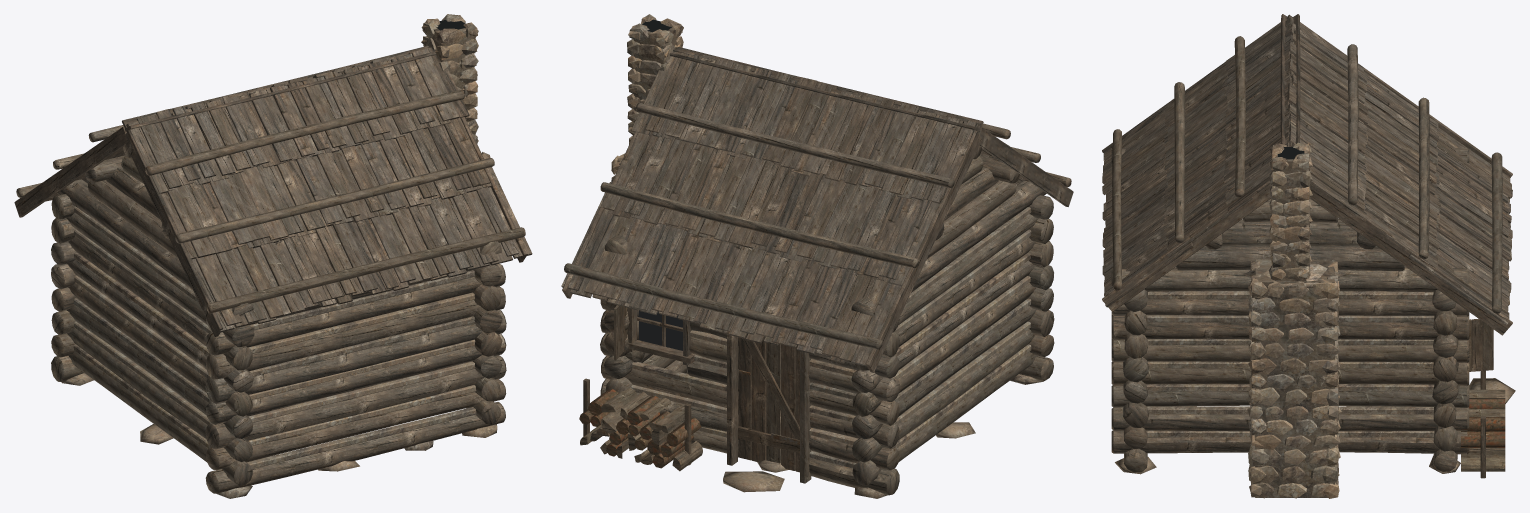
The model's file is b_hut.glb.
3 views of the same model, side by side, from view 1: azimuth 30°, elevation 25°; view 2: azimuth 150°, elevation 25°; view 3: azimuth 270°, elevation 25° (orthographic).
Visible parts, largest first — view 1: b_hut; view 2: b_hut; view 3: b_hut.
Boxes of the visible parts, x1,y1,x2,y2 form: b_hut: (14,14,532,498); b_hut: (561,14,1073,498); b_hut: (1102,14,1515,498).
Size of the model in its own units: 3.82 by 3.54 by 3.91.
Materials: 5 (4 with a texture image).
